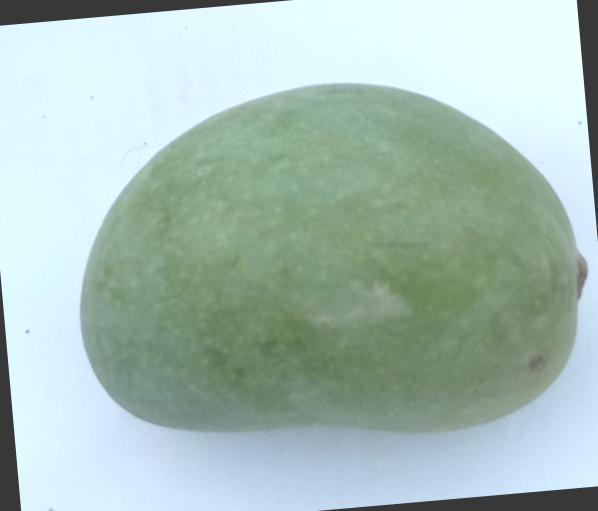Mango Unripe: (30, 25, 598, 416)
